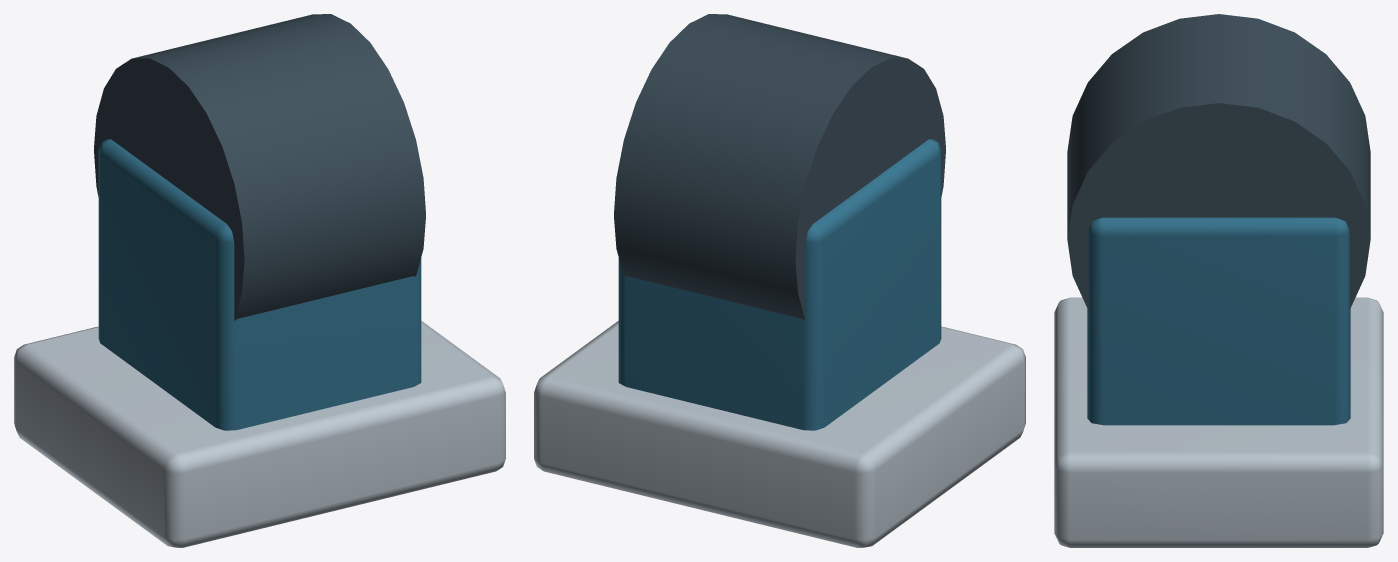
File: Connection_BearingPedestal.fbx
The picture shows the model from 3 angles, left to right: view 1: azimuth 30°, elevation 25°; view 2: azimuth 150°, elevation 25°; view 3: azimuth 270°, elevation 25°; orthographic projection.
Parts seen in each view (by area): view 1: BearingHousing, Foot, Pedestal; view 2: BearingHousing, Foot, Pedestal; view 3: BearingHousing, Pedestal, Foot.
Part boxes in pixels (box(x1,y1,x2,y2)): BearingHousing: box(94, 14, 425, 320); Foot: box(14, 321, 505, 547); Pedestal: box(98, 139, 421, 430); BearingHousing: box(614, 14, 945, 320); Foot: box(534, 321, 1025, 547); Pedestal: box(618, 139, 941, 430); BearingHousing: box(1067, 14, 1370, 309); Pedestal: box(1087, 217, 1350, 425); Foot: box(1054, 297, 1383, 547).
Bounding box in the file's own units: 0.3 × 0.345 × 0.25.
